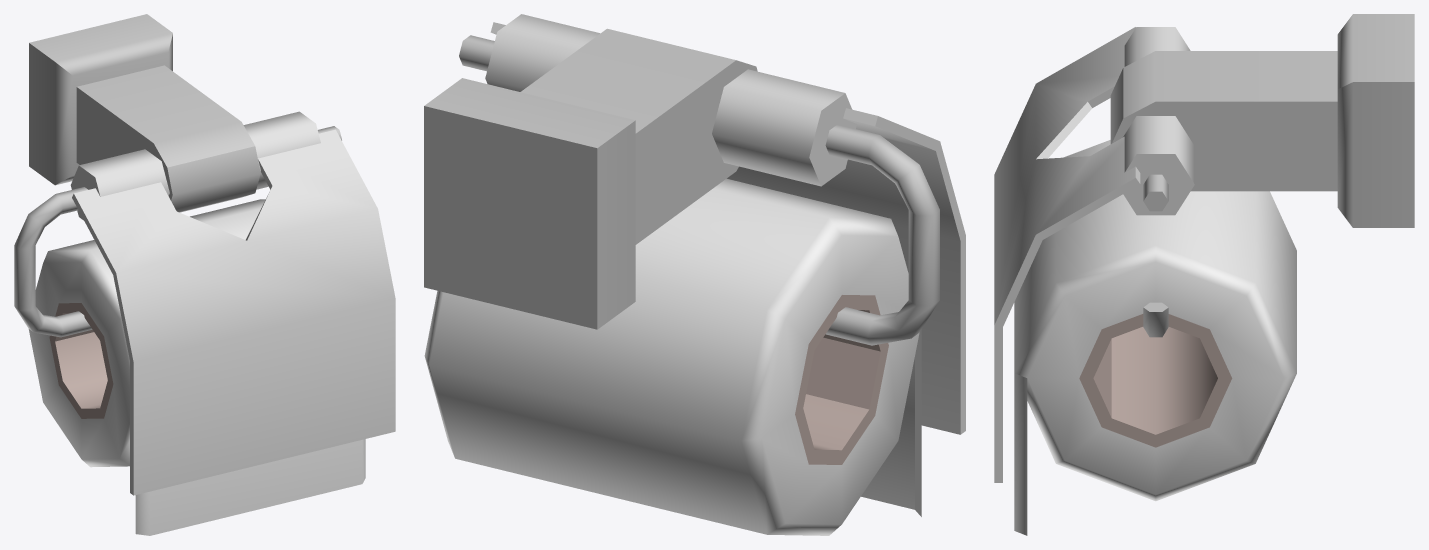
File: bathroom_024.fbx
3 renders of one model, left to right at view 1: azimuth 30°, elevation 25°; view 2: azimuth 150°, elevation 25°; view 3: azimuth 270°, elevation 25°, orthographic. The views are drawn at different scales.
Visible parts, largest first — view 1: bathroom_024; view 2: bathroom_024; view 3: bathroom_024.
Boxes of the visible parts, x1=… form: bathroom_024: x1=14, y1=14, x2=395, y2=535; bathroom_024: x1=424, y1=14, x2=965, y2=535; bathroom_024: x1=994, y1=14, x2=1414, y2=535.
Bounding box in the file's own units: 25.15 × 23.76 × 26.35.
